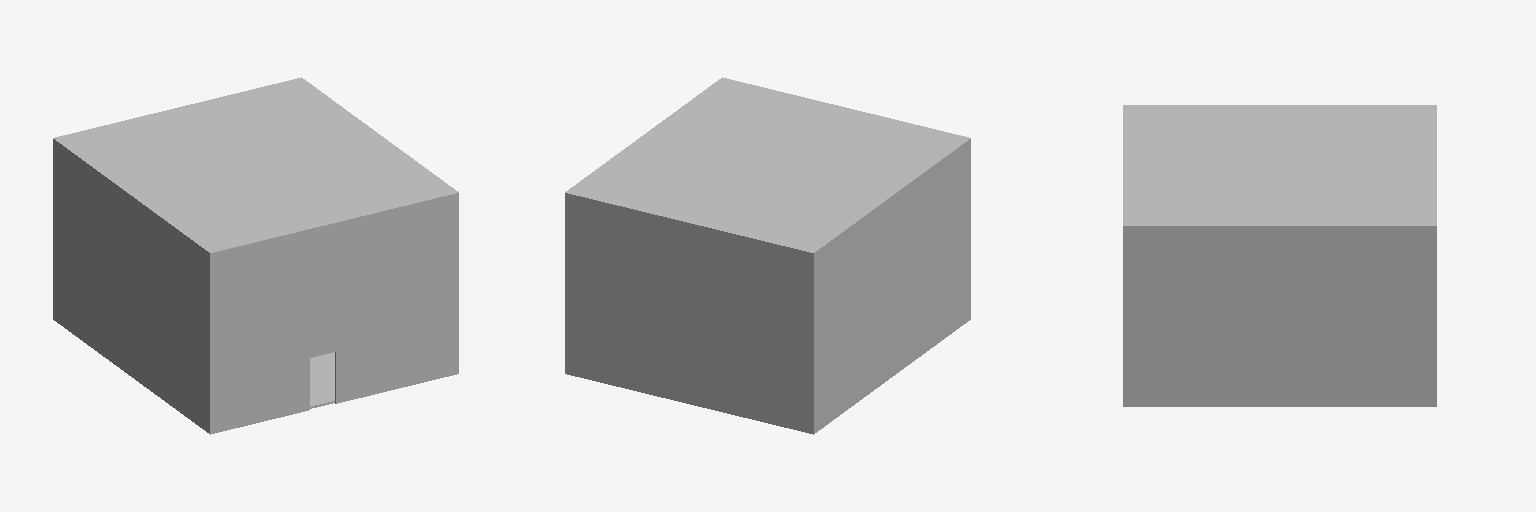
The model's file is ház.obj.
The picture shows the model from 3 angles: view 1: azimuth 30°, elevation 25°; view 2: azimuth 150°, elevation 25°; view 3: azimuth 270°, elevation 25°; orthographic projection.
Bounding box in the file's own units: 115 × 80 × 126.